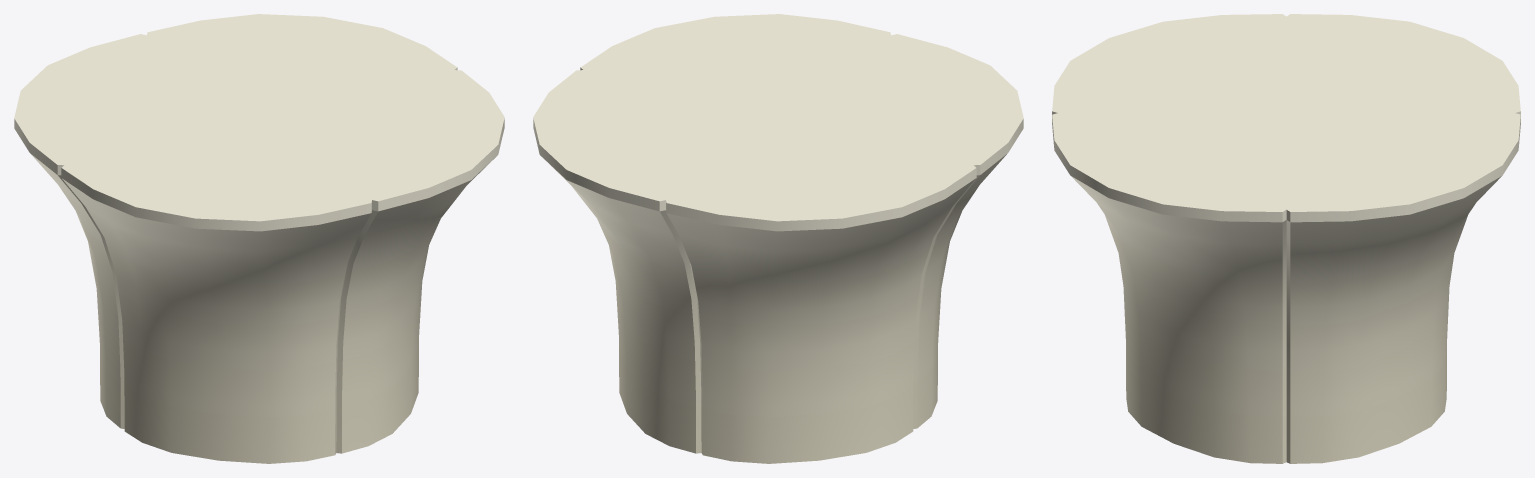
File: sm_futuristic_pillar_top.fbx
3 views of the same model, side by side, from view 1: azimuth 30°, elevation 25°; view 2: azimuth 150°, elevation 25°; view 3: azimuth 270°, elevation 25° (orthographic).
Parts seen in each view (by area): view 1: sm_futuristic_pillar_top; view 2: sm_futuristic_pillar_top; view 3: sm_futuristic_pillar_top.
Boxes of the visible parts, left/top/right/bottom form: sm_futuristic_pillar_top: left=14, top=14, right=504, bottom=463; sm_futuristic_pillar_top: left=533, top=14, right=1023, bottom=463; sm_futuristic_pillar_top: left=1052, top=14, right=1520, bottom=463.
Size of the model in its own units: 150 by 150 by 100.
